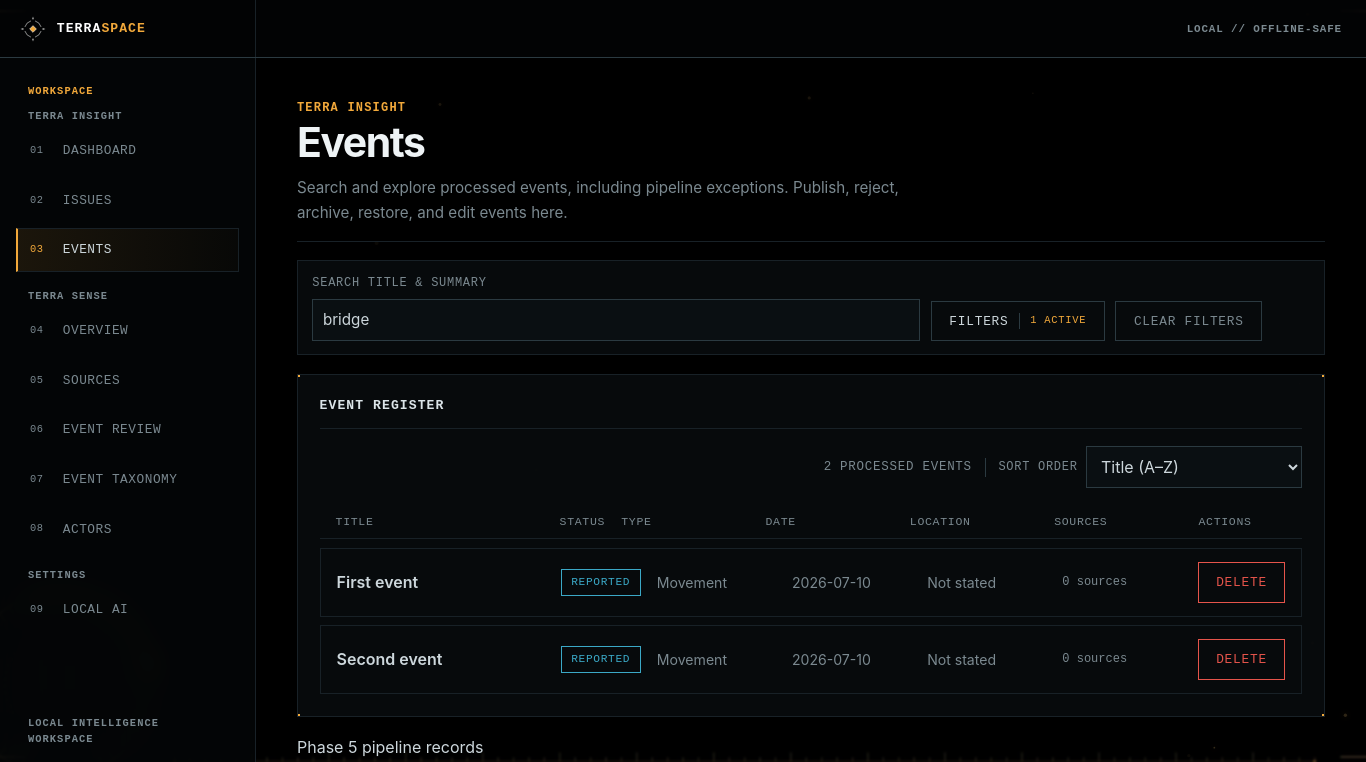
Test: EventsPage › hides an event from this browser's view and un-hides it from the event detail
The image size is (1366, 762).
Click the button "First event" at (441, 583), box [337,572,545,593]
(page scrolled)
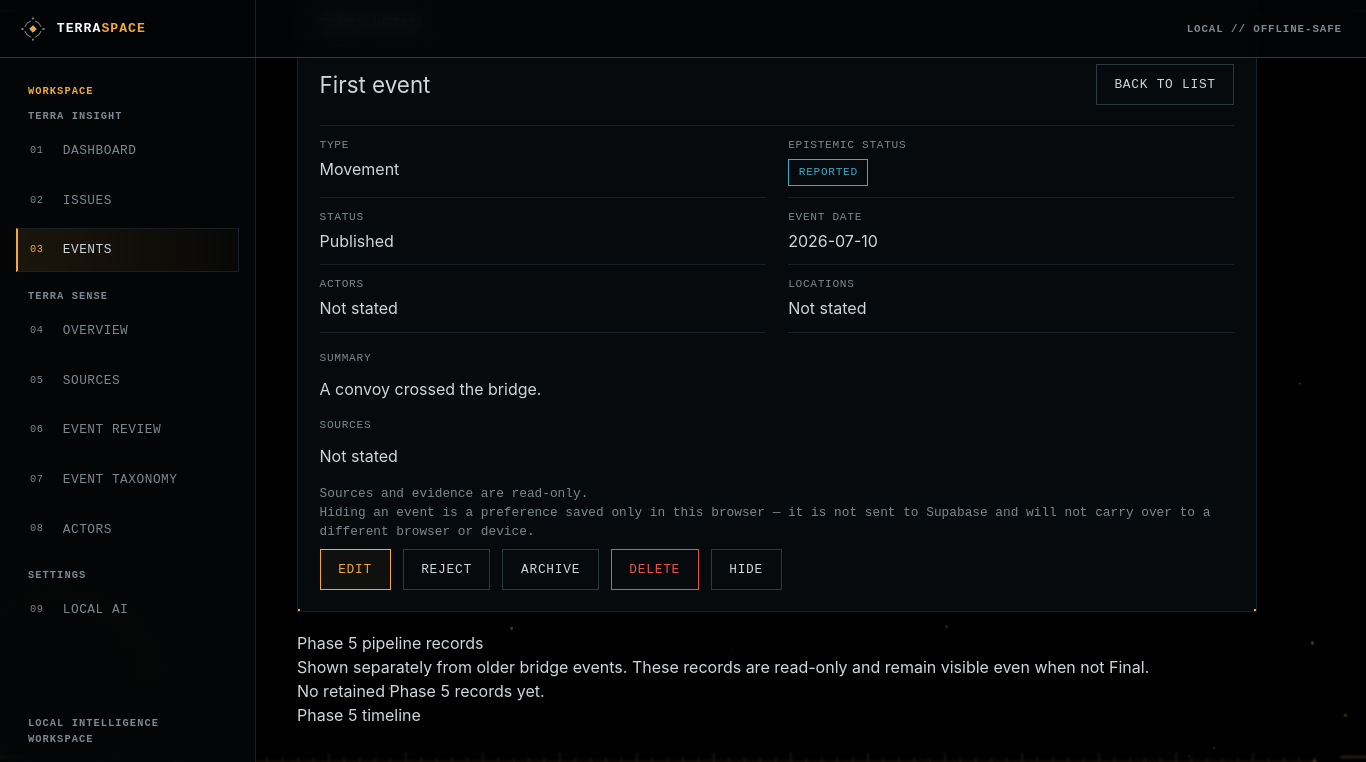
Expected: the heading "First event" is shown, [320,68,430,101]
Click the button "Hide" at (746, 569), box [711,549,782,590]
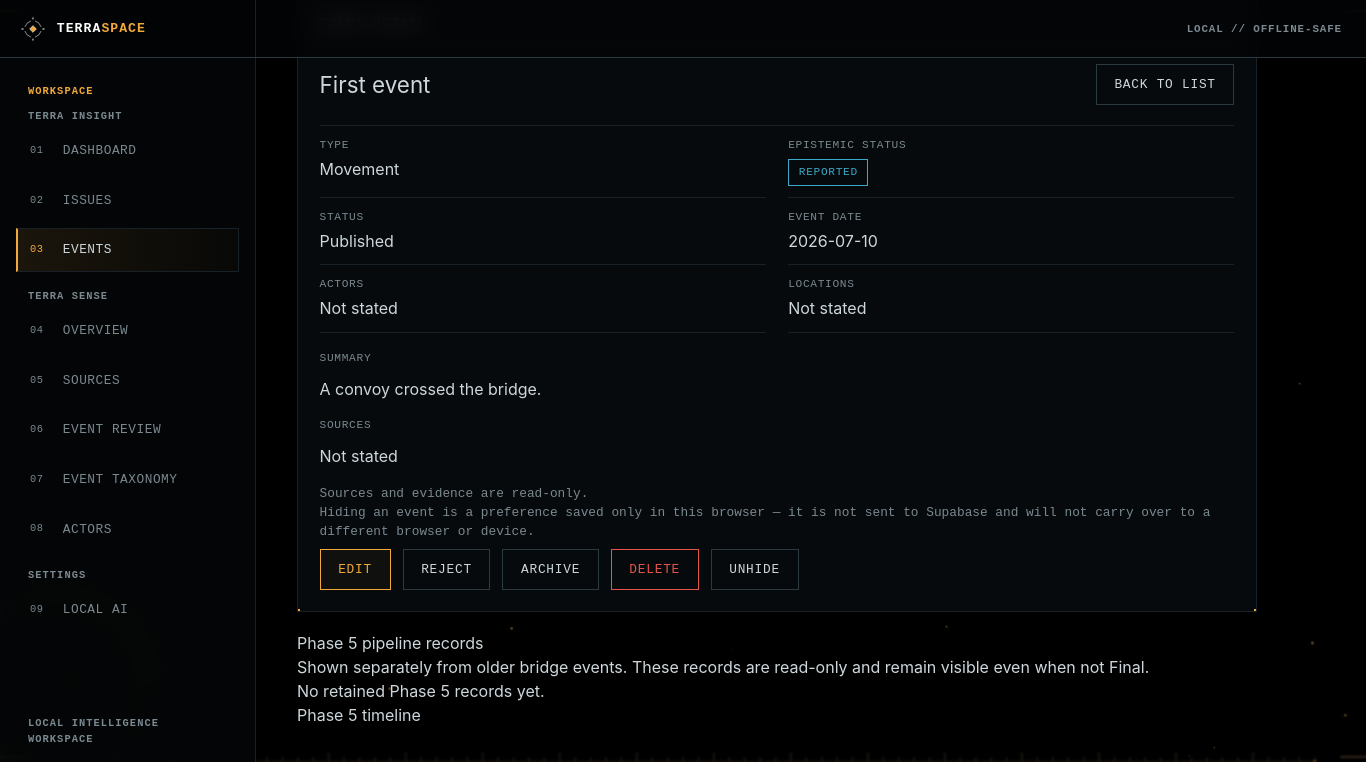
Expected: the heading "First event" is shown, [320,68,430,101]
Expected: the button "Unhide" is shown, [711,549,798,590]
Click the button "Back to list" at (1165, 85), box [1096,64,1234,105]
(page scrolled)
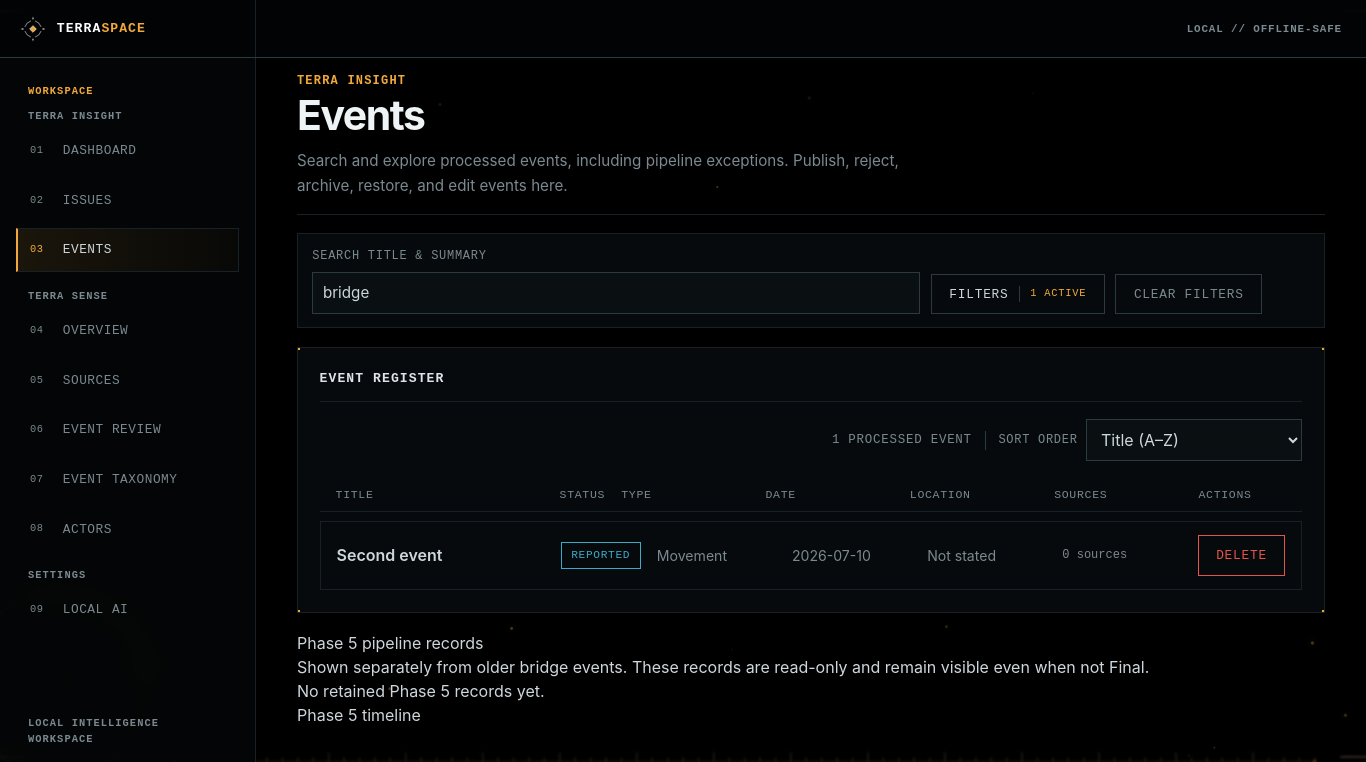
Expected: the heading "First event" is gone
Expected: the button "Second event" is shown, [337,545,545,566]
